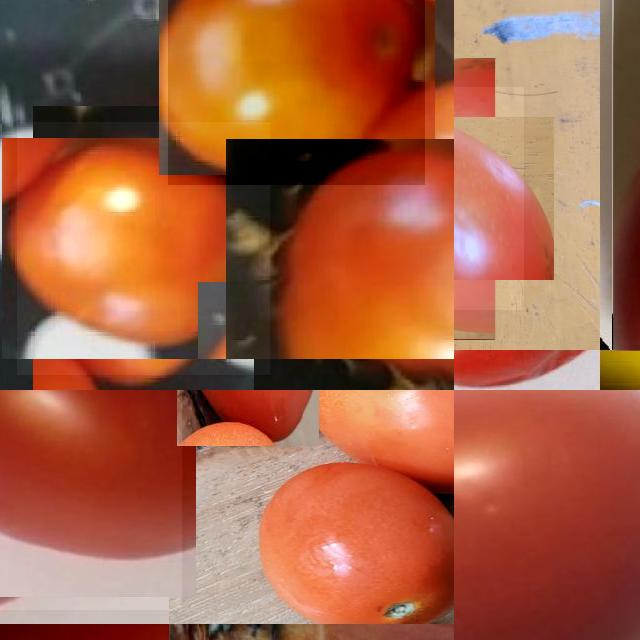1: (454, 87, 524, 310)
Fresh Tomato: (17, 122, 270, 375), (262, 102, 454, 390), (167, 0, 425, 185), (454, 390, 640, 640), (0, 390, 182, 610), (253, 459, 454, 624), (299, 390, 454, 498), (172, 390, 323, 442)
